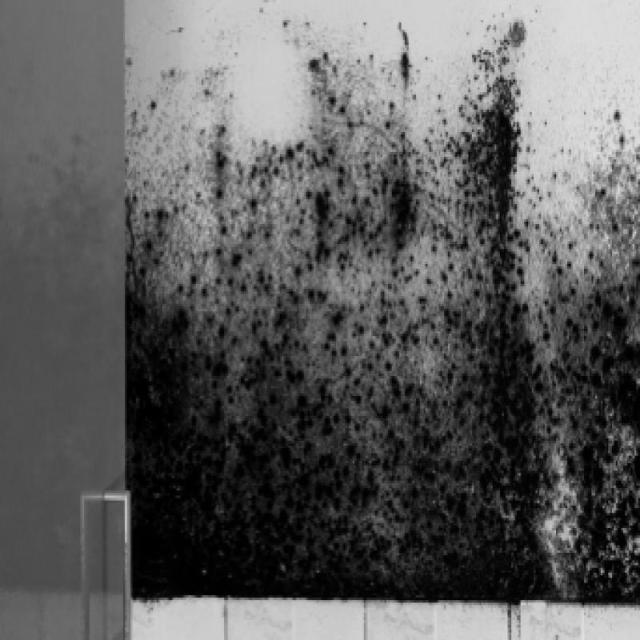stain marks: (127, 2, 638, 602)
